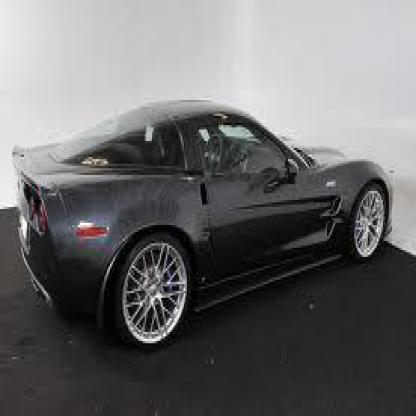Vehicle: (5, 91, 408, 357)
